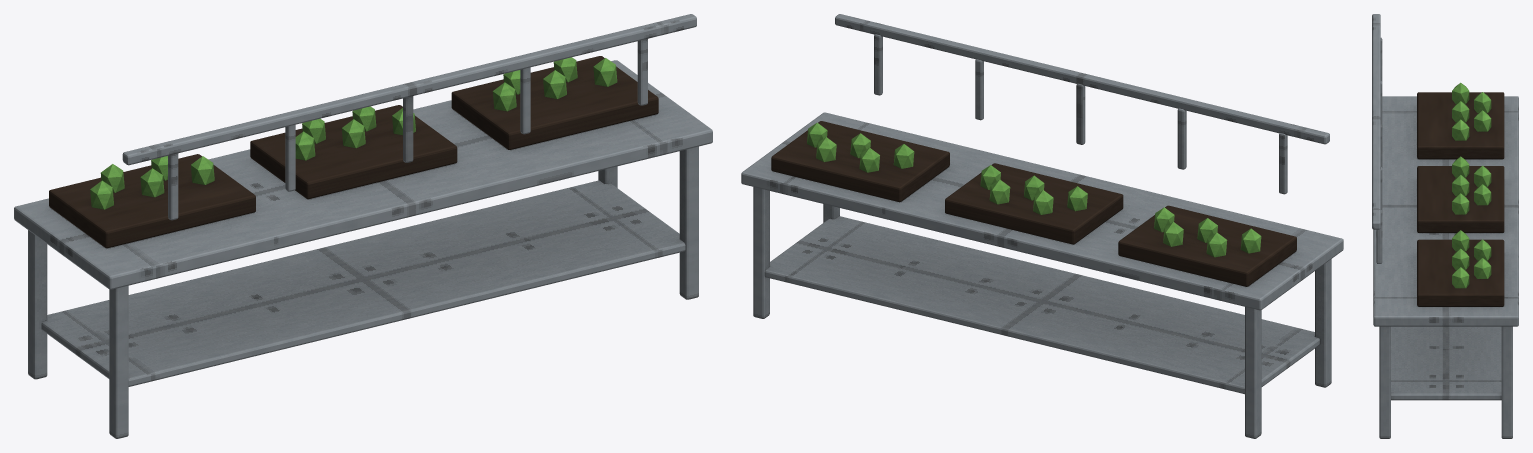
File: base_potting_bench.glb
The picture shows the model from 3 angles, left to right: view 1: azimuth 30°, elevation 25°; view 2: azimuth 150°, elevation 25°; view 3: azimuth 270°, elevation 25°; orthographic projection. The views are drawn at different scales.
Parts seen in each view (by area): view 1: base_potting_bench; view 2: base_potting_bench; view 3: base_potting_bench.
Boxes of the visible parts, left/top/right/bottom form: base_potting_bench: left=14, top=14, right=712, bottom=438; base_potting_bench: left=741, top=14, right=1343, bottom=438; base_potting_bench: left=1372, top=14, right=1518, bottom=438.
Bounding box in the file's own units: 3.6 × 1.63 × 1.01.
Materials: 3 (3 with a texture image).
